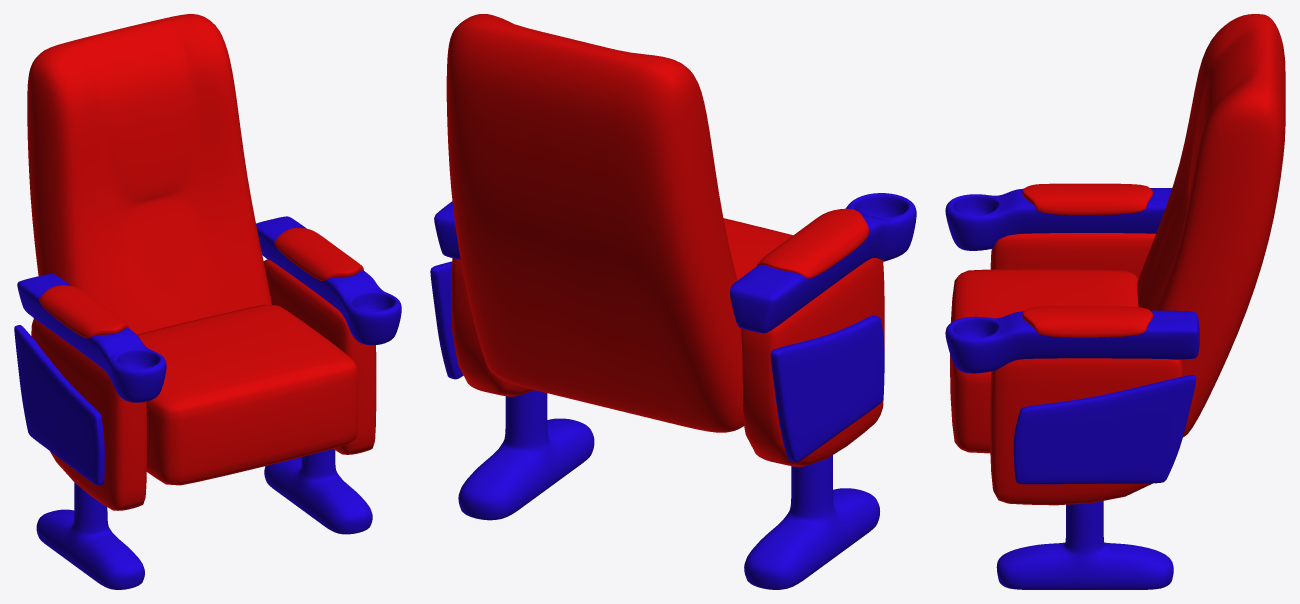
Rendered from chair.fbx.
3 renders of one model, left to right at view 1: azimuth 30°, elevation 25°; view 2: azimuth 150°, elevation 25°; view 3: azimuth 270°, elevation 25°, orthographic. The views are drawn at different scales.
Parts seen in each view (by area): view 1: chair:polySurface2; view 2: chair:polySurface2; view 3: chair:polySurface2.
Boxes of the visible parts, x1,y1,x2,y2 form: chair:polySurface2: (14, 14, 401, 589); chair:polySurface2: (430, 14, 916, 589); chair:polySurface2: (945, 14, 1285, 589).
Size of the model in its own units: 3.72 by 5.52 by 3.61.
